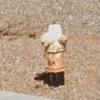Hydrant: (36, 15, 76, 82)
